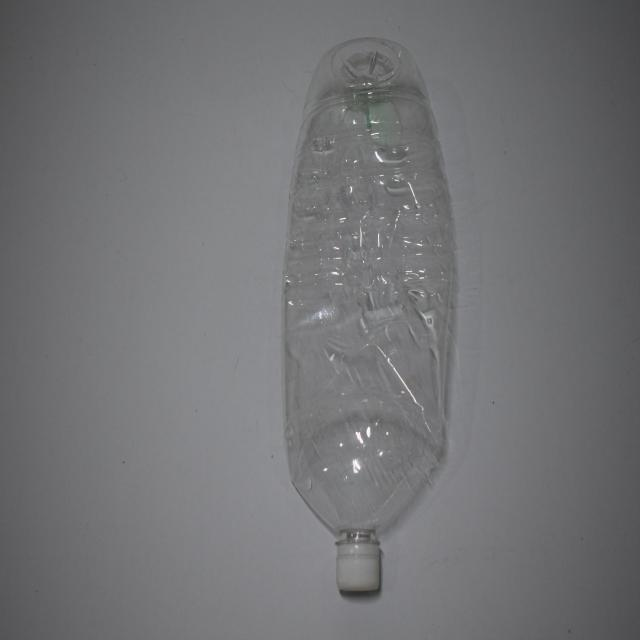bottle: (270, 31, 467, 613)
